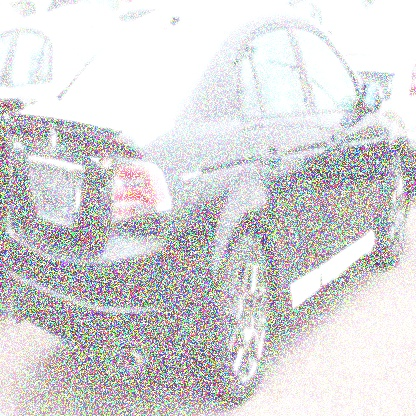Vehicle: (5, 2, 412, 407)
